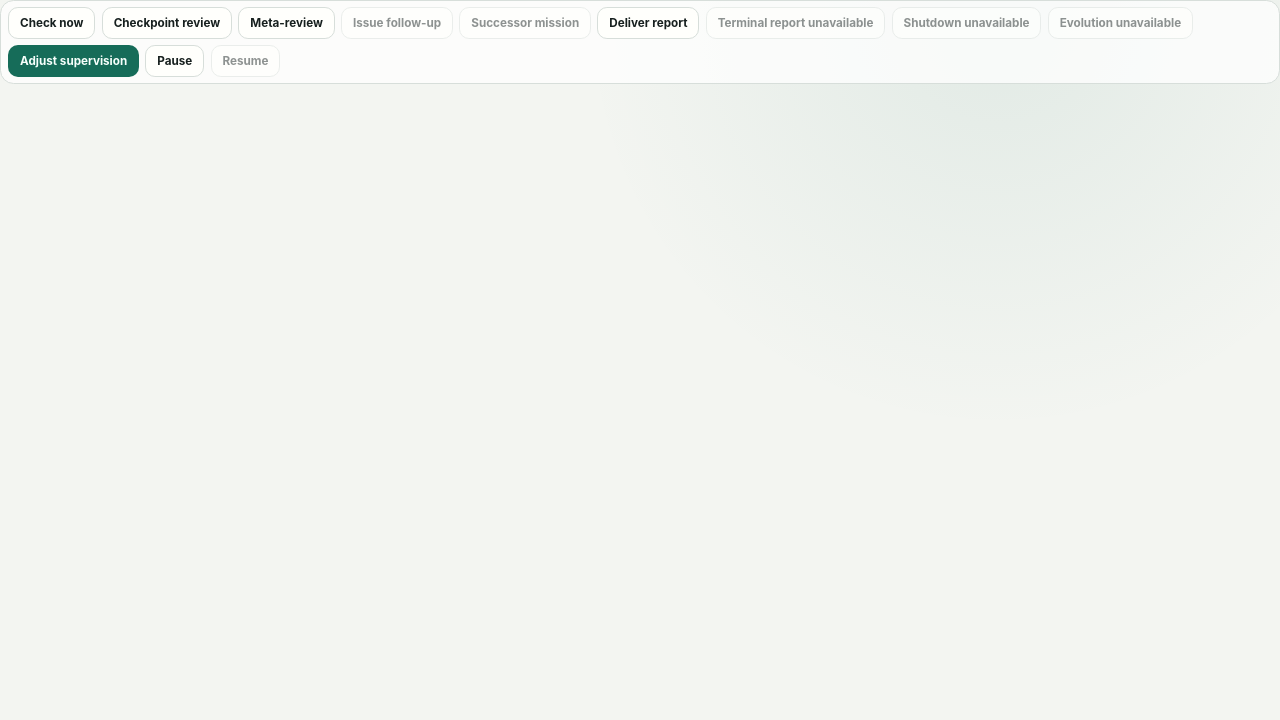
it: Factory workflow action strips › previews only the first incomplete weekly report stage
Click the button "Deliver report" at (648, 23), box [597,7,699,39]
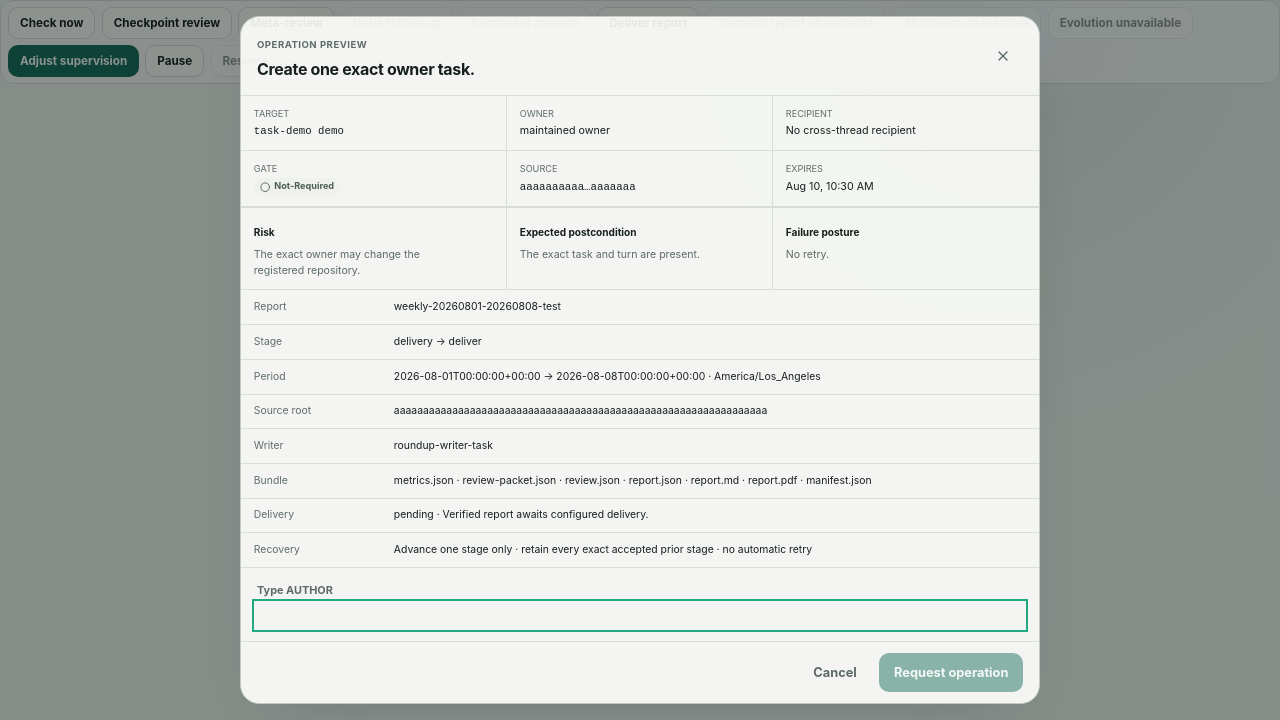
Expected: the text "weekly-20260801-20260808-test" is shown, [394,300,561,313]
Expected: the text "delivery → deliver" is shown, [394,335,482,348]
Expected: the text "Advance one stage only" is shown, [394,543,812,556]
